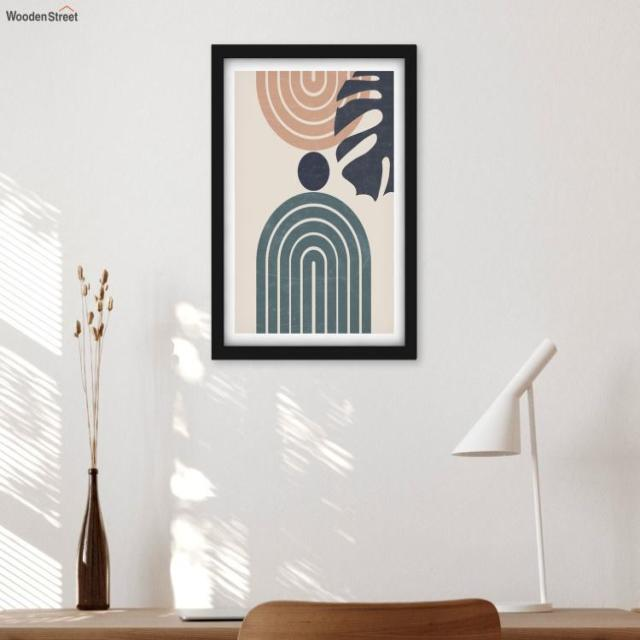painting: (212, 43, 418, 358)
